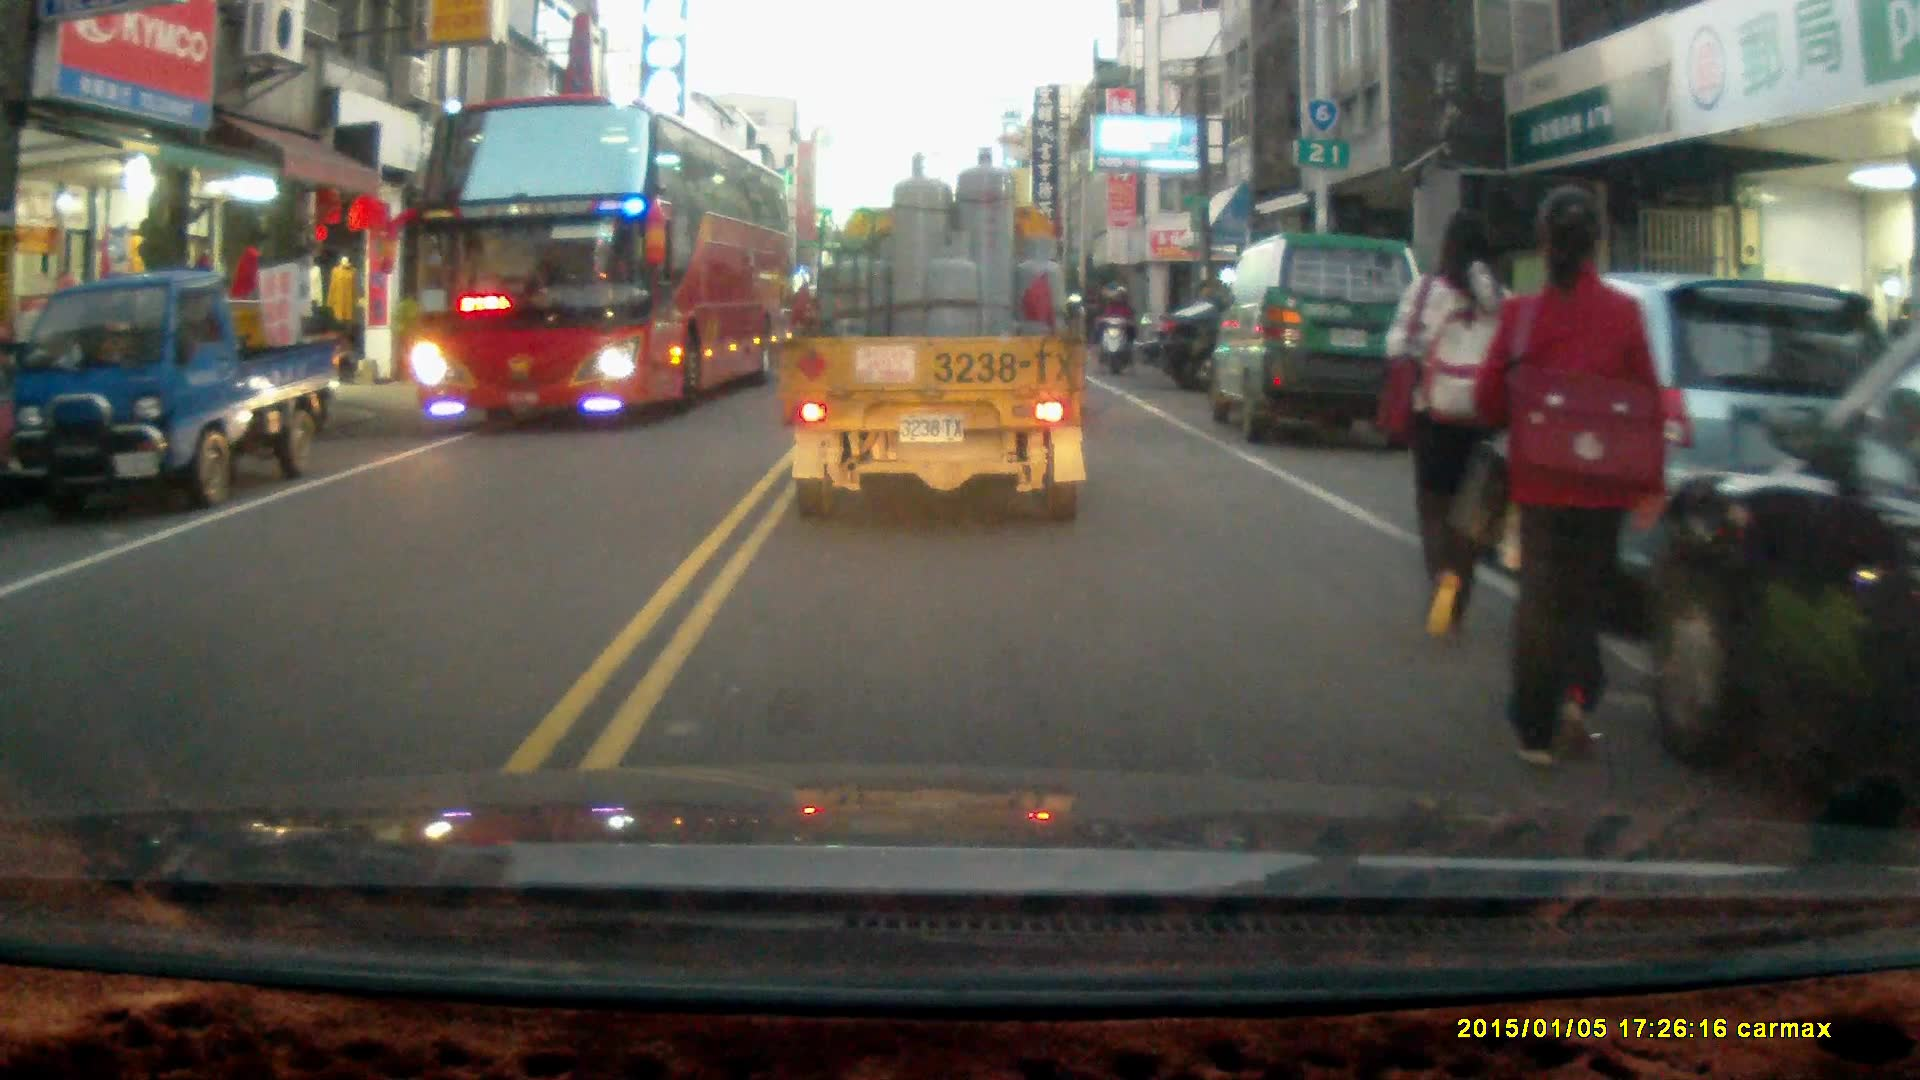pedestrian: (1467, 185, 1663, 770), (1385, 200, 1521, 653)
rider: (1093, 284, 1136, 375)
vehicle: (1639, 321, 1920, 801), (404, 95, 793, 431), (781, 145, 1094, 525), (1, 272, 335, 511), (1210, 231, 1427, 439), (1132, 301, 1425, 398)
